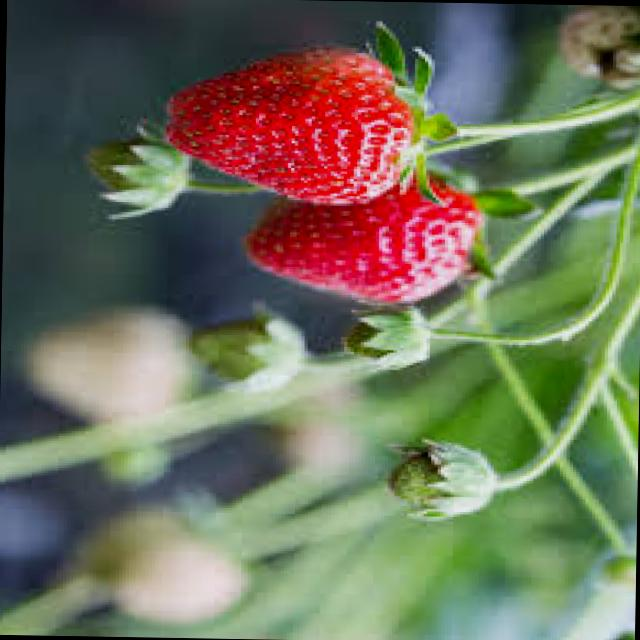strawberry: (162, 24, 446, 195), (238, 157, 478, 309)
